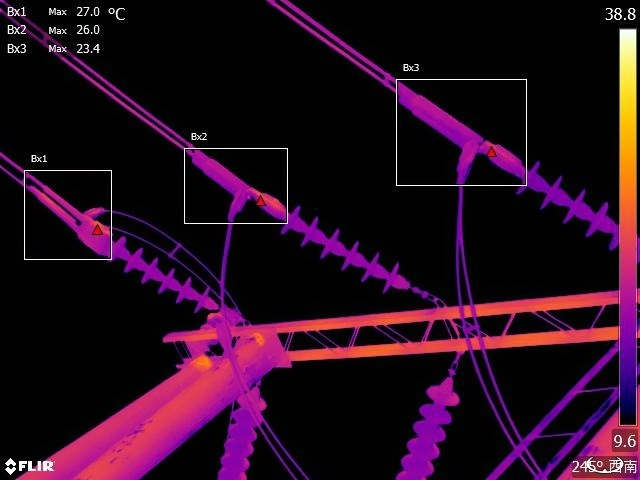clamp: (447, 137, 492, 183), (71, 196, 108, 237), (223, 182, 252, 222)
insulator: (279, 203, 409, 300), (515, 158, 616, 249), (111, 240, 220, 315), (392, 380, 468, 480), (215, 386, 274, 480)
